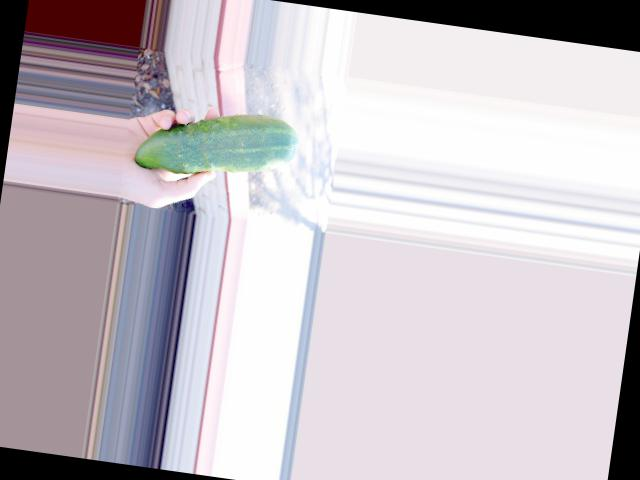cucumber: (134, 97, 301, 188)
